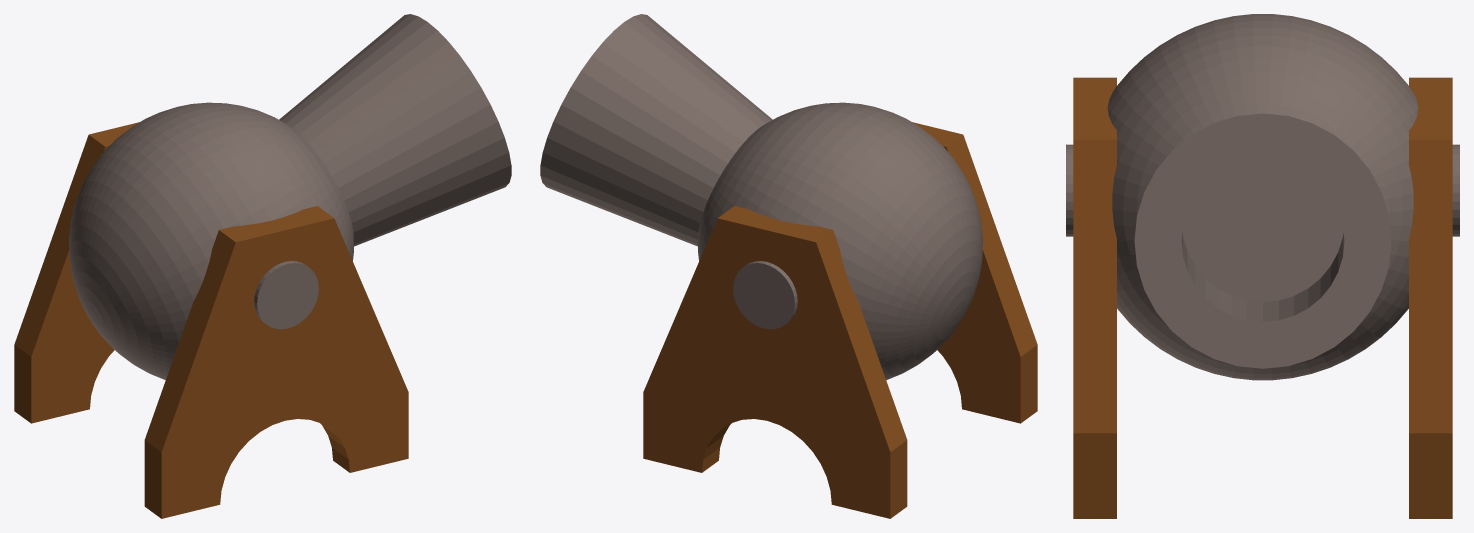
Rendered from canon_.fbx.
3 renders of one model, left to right at view 1: azimuth 30°, elevation 25°; view 2: azimuth 150°, elevation 25°; view 3: azimuth 270°, elevation 25°, orthographic. The views are drawn at different scales.
Parts seen in each view (by area): view 1: Sphere, Cube, Cylinder; view 2: Sphere, Cube, Cylinder; view 3: Sphere, Cube, Cylinder.
Part boxes in pixels (x1,y1,x2,y2): Sphere: [69, 14, 511, 379]; Cube: [14, 122, 408, 518]; Cylinder: [254, 261, 318, 329]; Sphere: [540, 14, 982, 379]; Cube: [643, 122, 1037, 518]; Cylinder: [733, 261, 797, 329]; Sphere: [1107, 14, 1418, 380]; Cube: [1073, 77, 1452, 518]; Cylinder: [1066, 144, 1459, 236].
Bounding box in the file's own units: 319 × 279 × 214.
